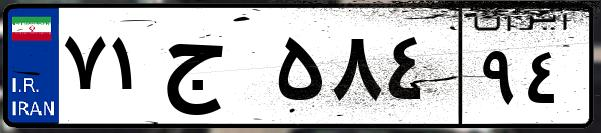1: (110, 28, 158, 98)
4: (385, 28, 445, 110), (525, 38, 570, 115)
5: (270, 28, 330, 110)
7: (57, 26, 110, 100)
8: (330, 28, 385, 110)
9: (475, 38, 525, 113)
ج: (158, 20, 270, 120)
